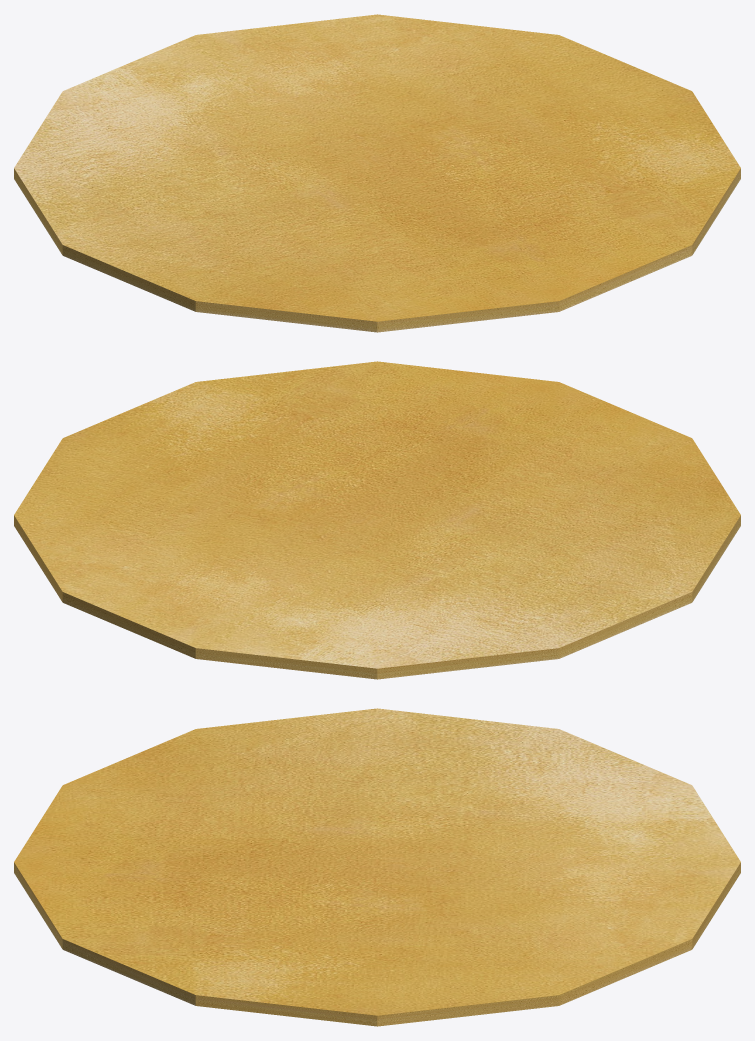
The model's file is GoldPlate.fbx.
The picture shows the model from 3 angles, top to bottom: view 1: azimuth 30°, elevation 25°; view 2: azimuth 150°, elevation 25°; view 3: azimuth 270°, elevation 25°; orthographic projection.
Parts seen in each view (by area): view 1: GoldPlate; view 2: GoldPlate; view 3: GoldPlate.
Part boxes in pixels (x1=…): GoldPlate: x1=14, y1=14, x2=740, y2=332; GoldPlate: x1=14, y1=361, x2=740, y2=679; GoldPlate: x1=14, y1=708, x2=740, y2=1026.
Size of the model in its own units: 3.19 by 0.0526 by 3.19.
